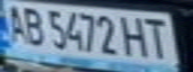2: (93, 11, 121, 56)
4: (60, 9, 84, 52)
5: (42, 7, 66, 50)
7: (78, 10, 100, 54)
A: (0, 1, 30, 44)
B: (18, 3, 48, 47)
H: (118, 14, 154, 58)
T: (142, 15, 175, 60)
